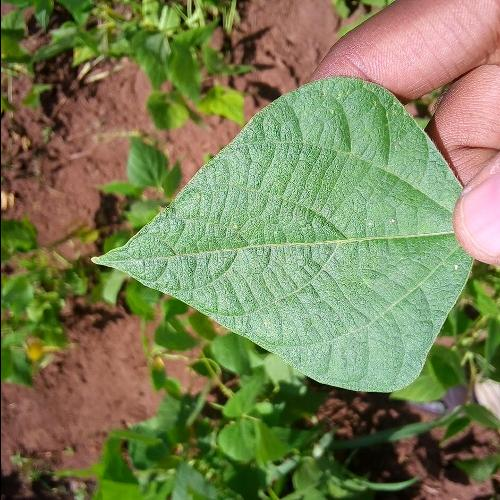embun tepung: (202, 62, 441, 392)
